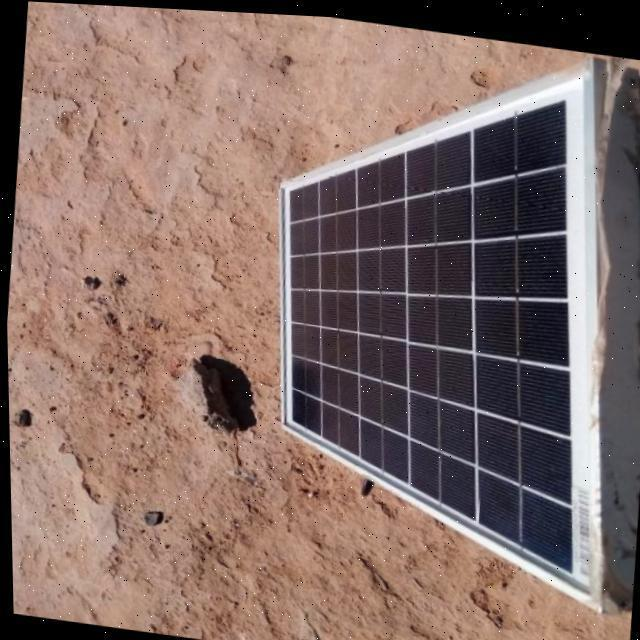Normal Solar Panel: (242, 15, 640, 603)
